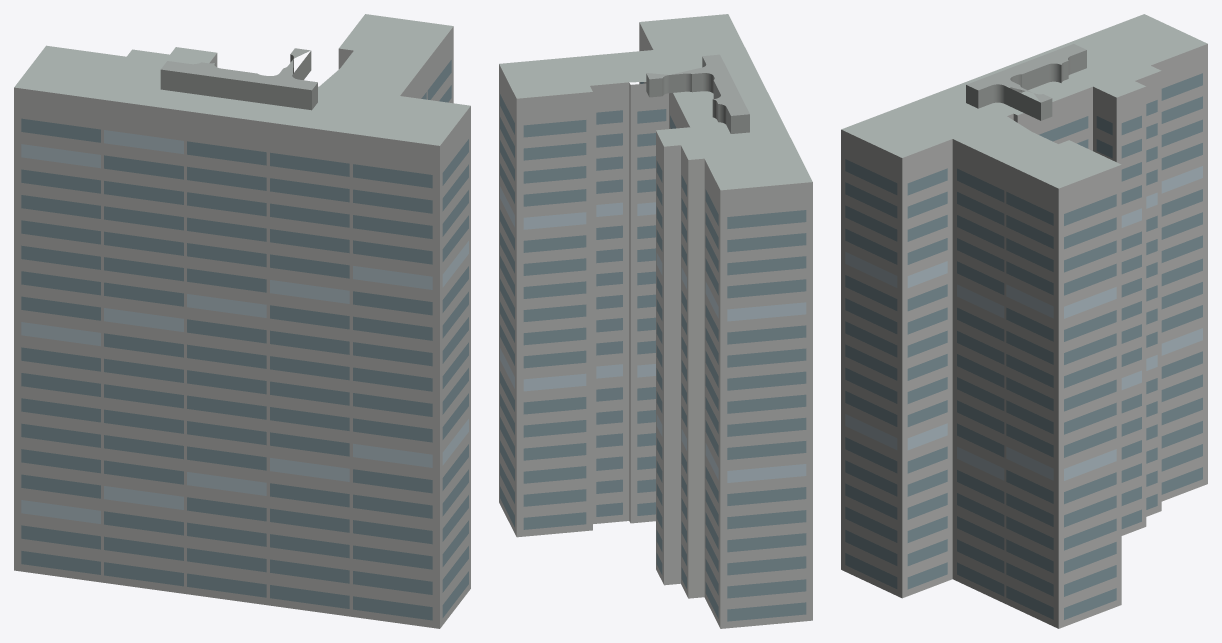
File: fallback-gaepo-xi-presidence-404.glb
3 renders of one model, left to right at view 1: azimuth 30°, elevation 25°; view 2: azimuth 150°, elevation 25°; view 3: azimuth 270°, elevation 25°, orthographic. The views are drawn at different scales.
Parts seen in each view (by area): view 1: fallback-gaepo-xi-presidence-404; view 2: fallback-gaepo-xi-presidence-404; view 3: fallback-gaepo-xi-presidence-404.
Boxes of the visible parts, left/top/right/bottom form: fallback-gaepo-xi-presidence-404: left=14, top=14, right=470, bottom=628; fallback-gaepo-xi-presidence-404: left=499, top=14, right=812, bottom=628; fallback-gaepo-xi-presidence-404: left=841, top=14, right=1207, bottom=628.
Bounding box in the file's own units: 49.31 × 60.35 × 43.76.
